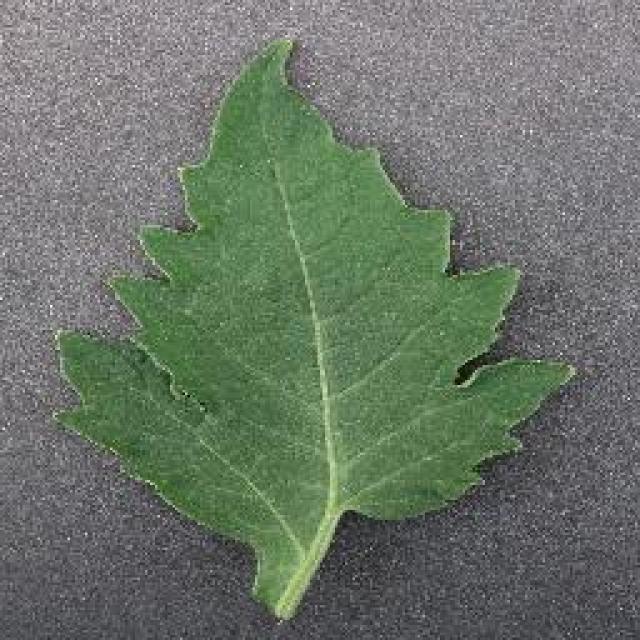Tomato healthy leaf: (53, 30, 575, 588)
